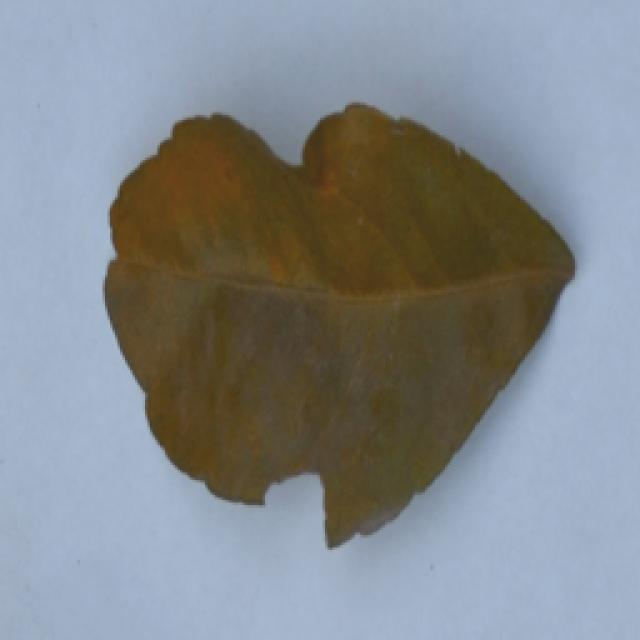greening: (79, 57, 579, 553)
